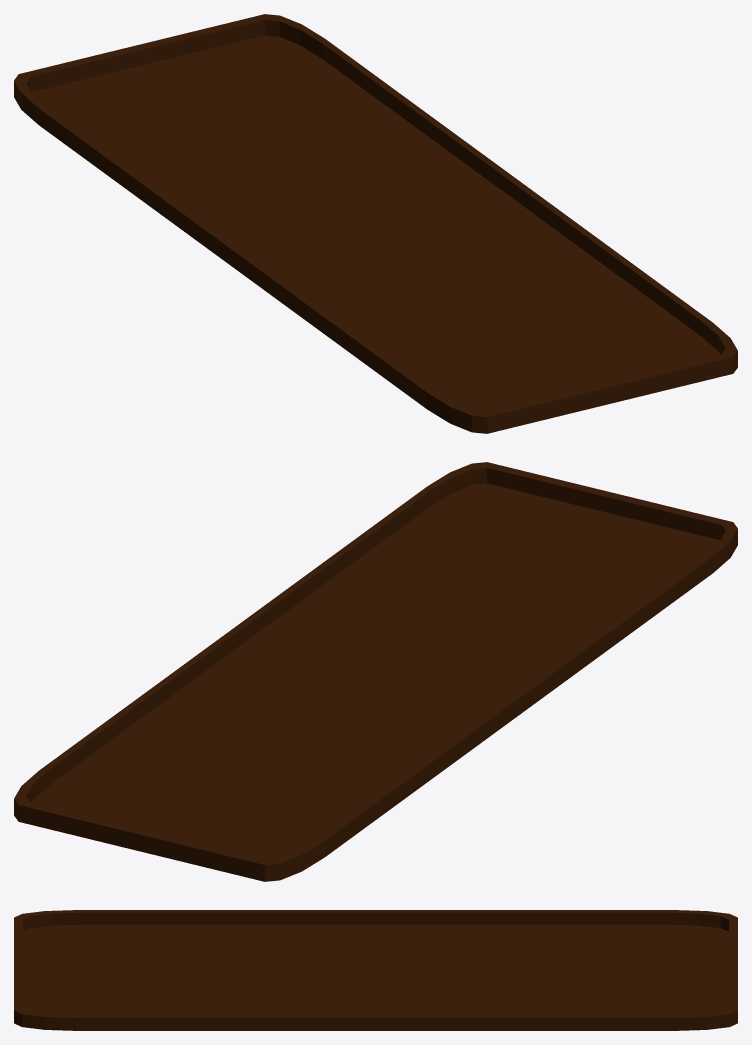
File: Territory.fbx
The picture shows the model from 3 angles, top to bottom: view 1: azimuth 30°, elevation 25°; view 2: azimuth 150°, elevation 25°; view 3: azimuth 270°, elevation 25°; orthographic projection. The views are drawn at different scales.
Visible parts, largest first — view 1: Terrytory; view 2: Terrytory; view 3: Terrytory.
Part boxes in pixels (x1,y1,x2,y2): Terrytory: (14, 14, 737, 433); Terrytory: (14, 462, 737, 881); Terrytory: (14, 910, 737, 1030).
Size of the model in its own units: 439 by 24.63 by 1246.
1 material, 1 textured.
